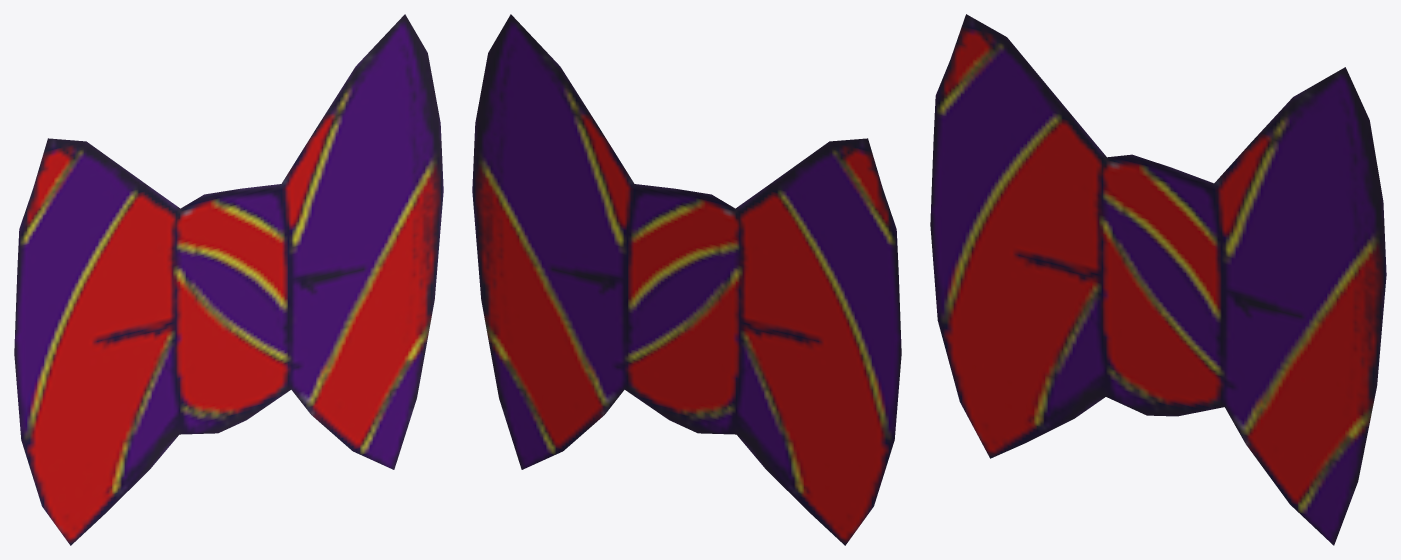
File: power_tie.fbx
3 renders of one model, left to right at view 1: azimuth 30°, elevation 25°; view 2: azimuth 150°, elevation 25°; view 3: azimuth 330°, elevation 25°, orthographic. The views are drawn at different scales.
Parts seen in each view (by area): view 1: o2; view 2: o2; view 3: o2.
Part boxes in pixels (left/top/right/bottom): o2: left=14, top=14, right=443, bottom=545; o2: left=472, top=14, right=901, bottom=545; o2: left=930, top=14, right=1386, bottom=545.
Bounding box in the file's own units: 45.08 × 45.5 × 0.
Materials: 1 (1 with a texture image).
